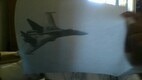maybay_muctieu: (20, 11, 87, 55)
